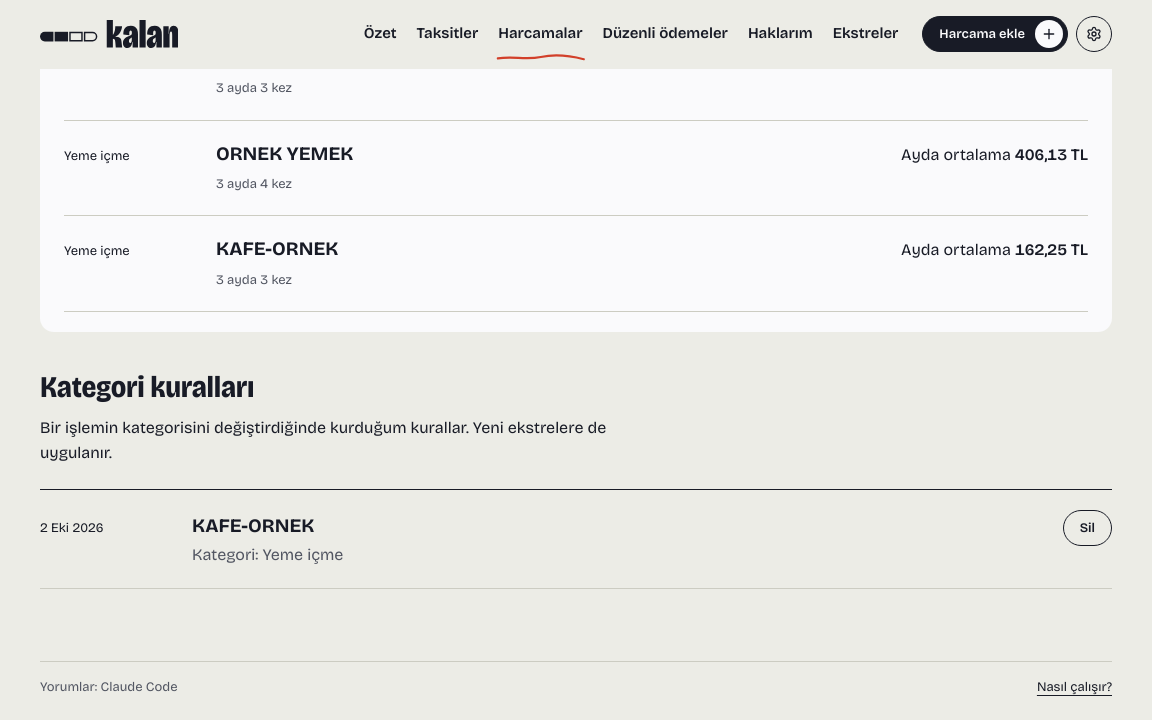
Test: spending: category rules › deletes a rule and keeps the categories it set
(page scrolled)
Click the button with aria-label "Kuralı sil: KAFE-ORNEK" at (1087, 528), box [1063,510,1112,546]
(page scrolled)
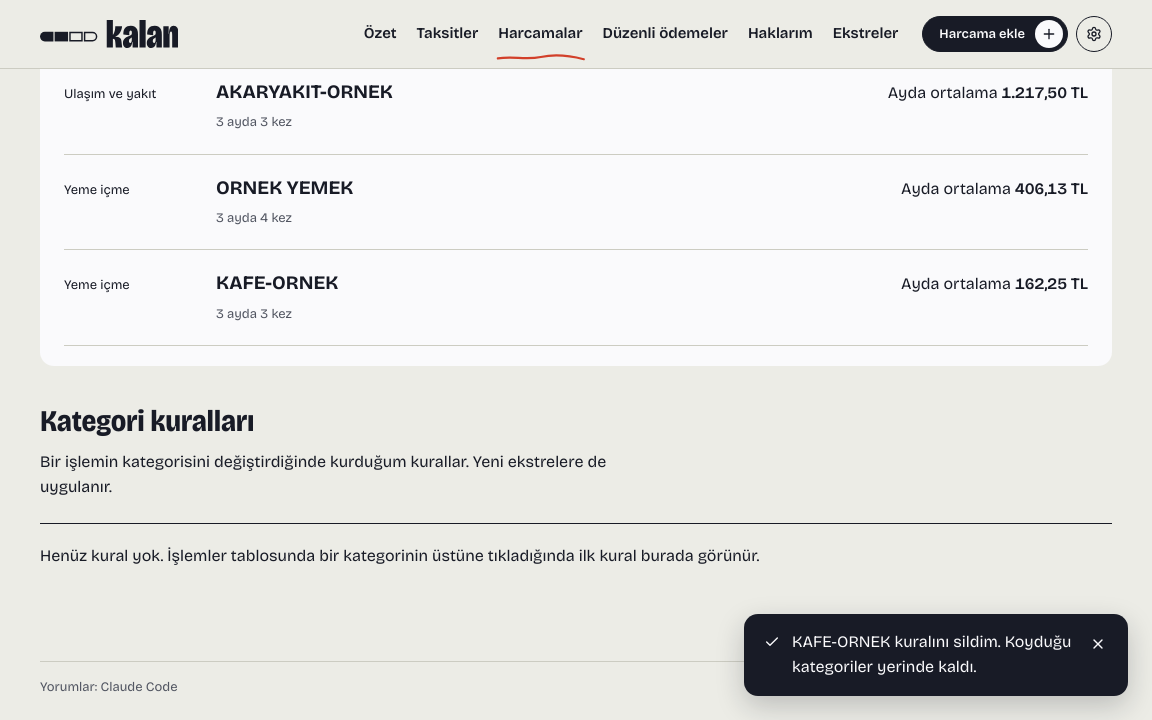
Check: the text "KAFE-ORNEK kuralını sildim. Koyduğu kategoriler yerinde kaldı." is shown, box [792,630,1072,680]
Check: the text "Henüz kural yok" is shown, box [40,546,759,566]
